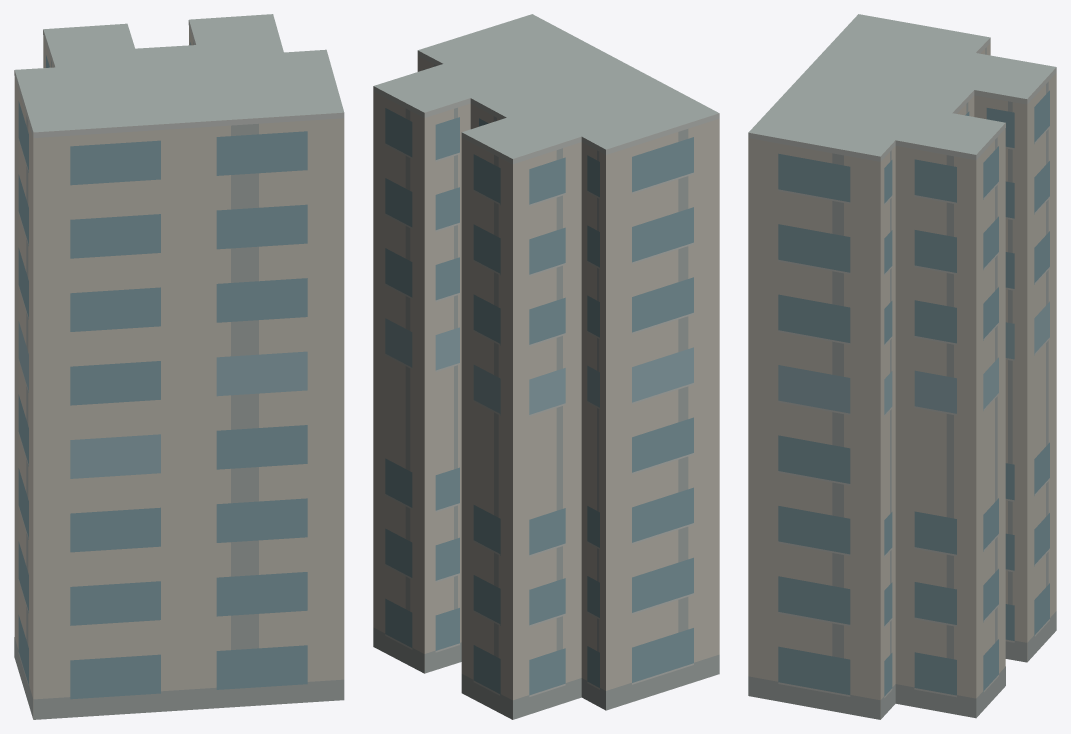
File: survey-upis-32880894.glb
The picture shows the model from 3 angles, left to right: view 1: azimuth 30°, elevation 25°; view 2: azimuth 150°, elevation 25°; view 3: azimuth 270°, elevation 25°; orthographic projection. The views are drawn at different scales.
Visible parts, largest first — view 1: survey-upis-32880894.tmp; view 2: survey-upis-32880894.tmp; view 3: survey-upis-32880894.tmp.
Part boxes in pixels (bbox=[...]): survey-upis-32880894.tmp: bbox=[14, 14, 344, 719]; survey-upis-32880894.tmp: bbox=[373, 14, 719, 719]; survey-upis-32880894.tmp: bbox=[748, 14, 1056, 719].
Bounding box in the file's own units: 13.67 × 25.16 × 12.49.
